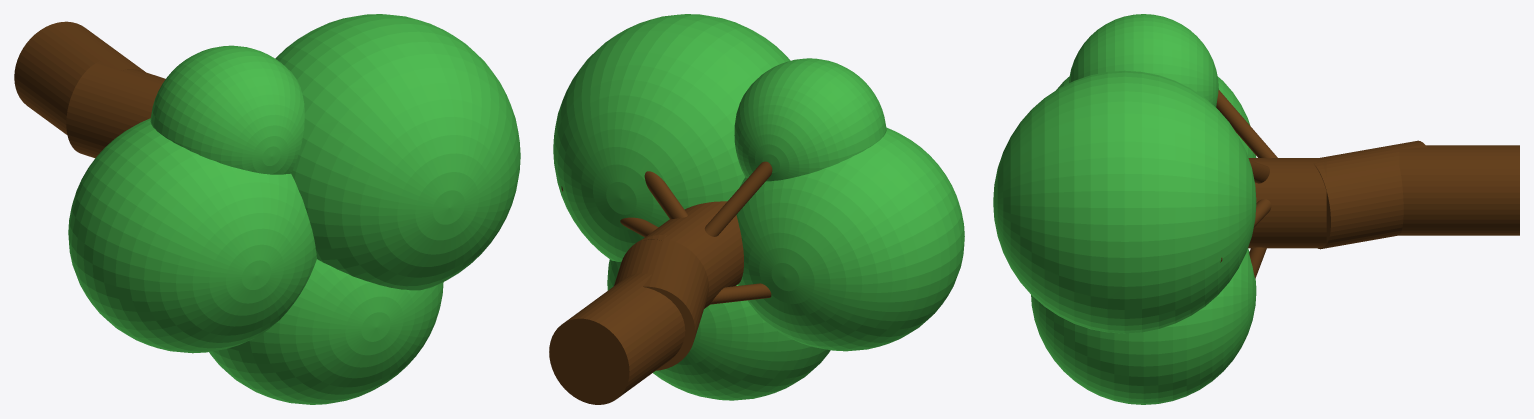
File: tinker.obj
3 renders of one model, left to right at view 1: azimuth 30°, elevation 25°; view 2: azimuth 150°, elevation 25°; view 3: azimuth 270°, elevation 25°, orthographic. The views are drawn at different scales.
Parts seen in each view (by area): view 1: obj_0, obj_1; view 2: obj_0, obj_1; view 3: obj_0, obj_1.
Boxes of the visible parts, box(x1,y1,x2,y2) form: obj_0: box(68, 14, 520, 404); obj_1: box(14, 21, 165, 157); obj_0: box(553, 14, 964, 400); obj_1: box(549, 161, 772, 404); obj_0: box(993, 14, 1256, 404); obj_1: box(1216, 90, 1519, 278).
Size of the model in its own units: 58 by 49 by 70.
